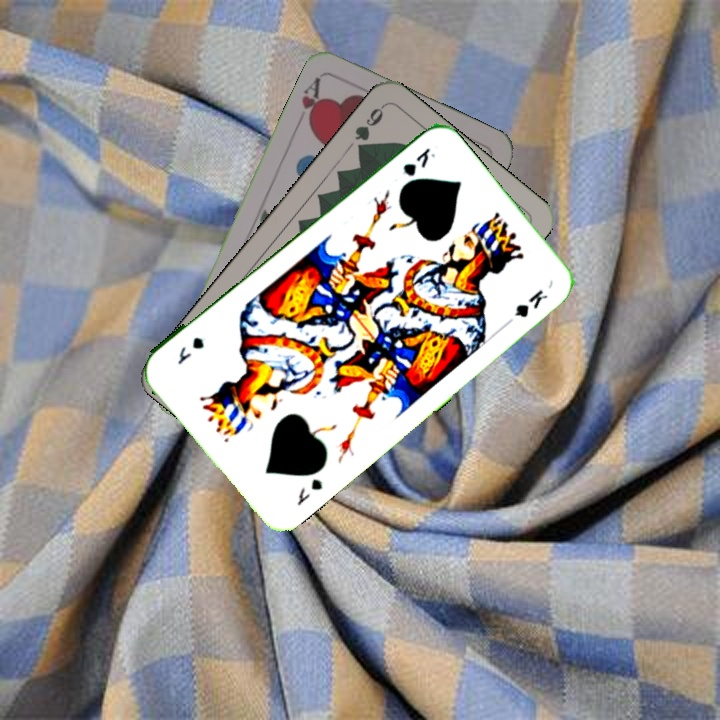G9: (350, 101, 387, 157)
GK: (398, 143, 438, 180), (292, 474, 326, 509)
HA: (297, 72, 326, 131)
